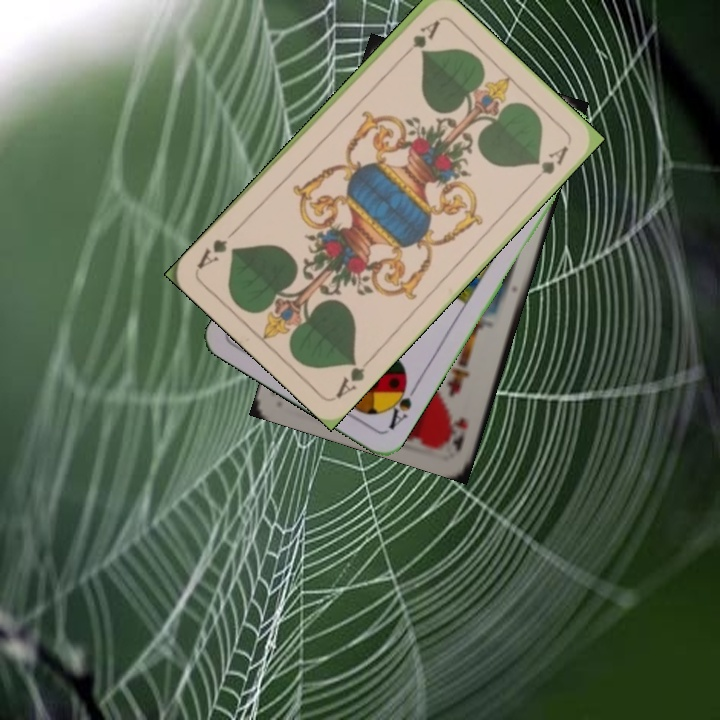GA: (331, 352, 376, 402), (395, 16, 443, 62)
HK: (443, 413, 470, 454)
SA: (381, 374, 421, 433)
